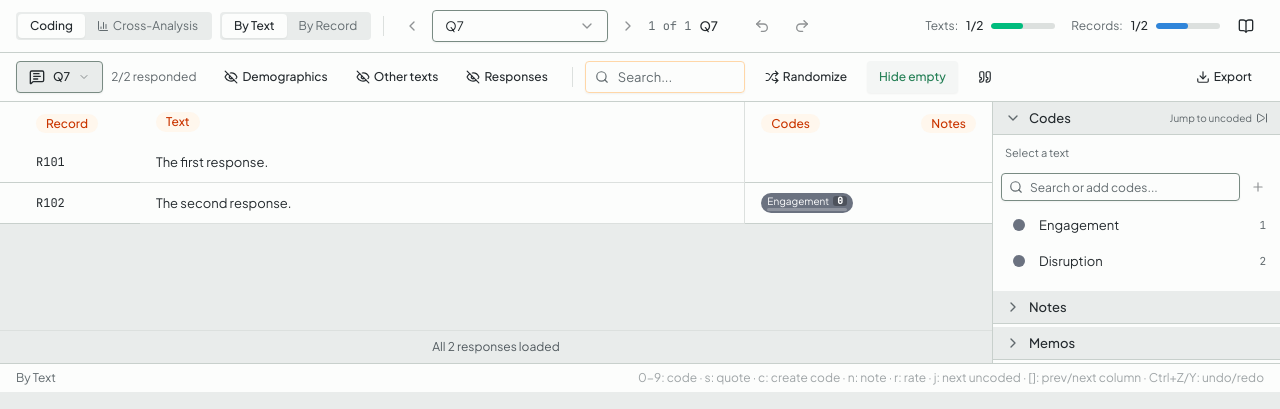
Test: #1038 (i) — a filter change keeps the old rows, but never as if current › while the new filter loads: the table is busy, no count is stated, and the line says it is updating
Check: the text "All 2 responses loaded" is shown, box [432,339,560,355]
Type "second" into the field named "Search responses" at (665, 77), box [585,61,745,93]
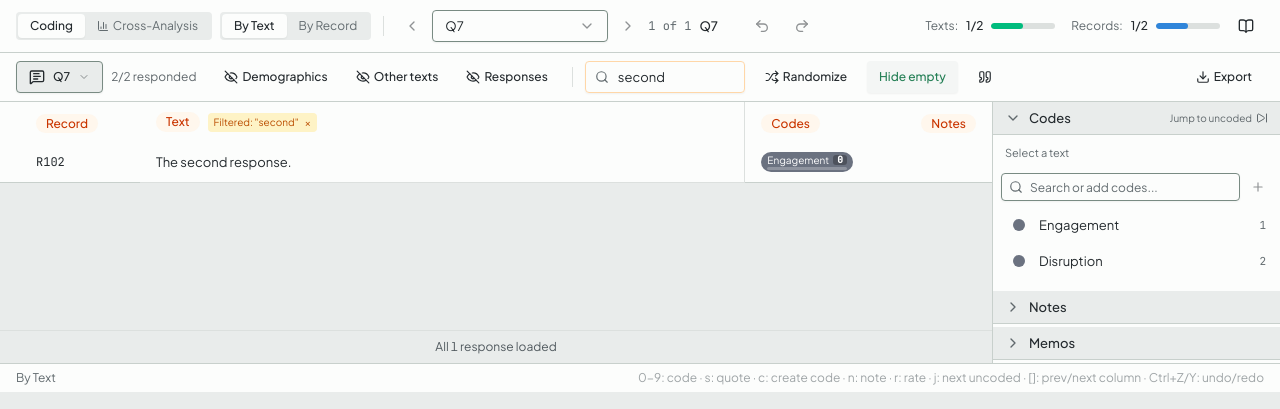
Check: the row "R102 The second response. Engagement 0" is shown, box [0,142,992,183]
Check: the text "All 2 responses loaded" is gone
Check: the text "All 1 response loaded" is shown, box [435,339,557,355]
